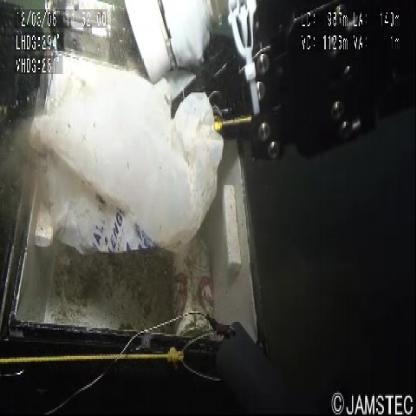Rov: (39, 2, 416, 197), (1, 1, 42, 130)
Rác: (35, 39, 228, 265)
